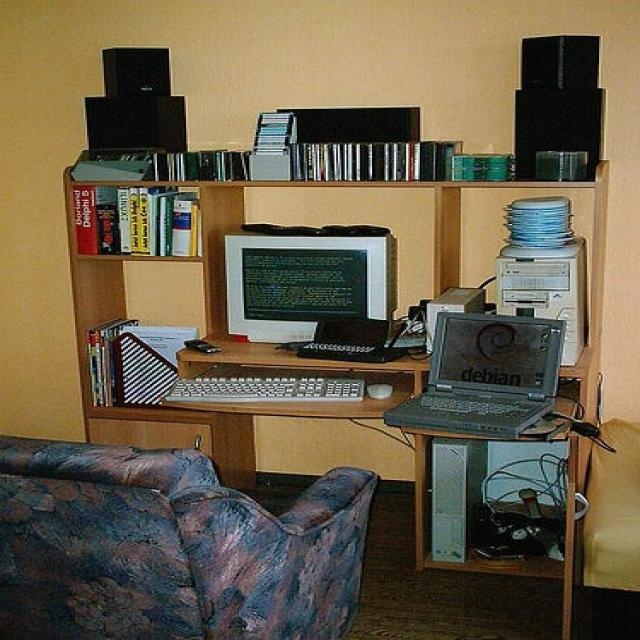chair: (0, 432, 381, 638)
tvmonitor: (225, 236, 393, 348)
